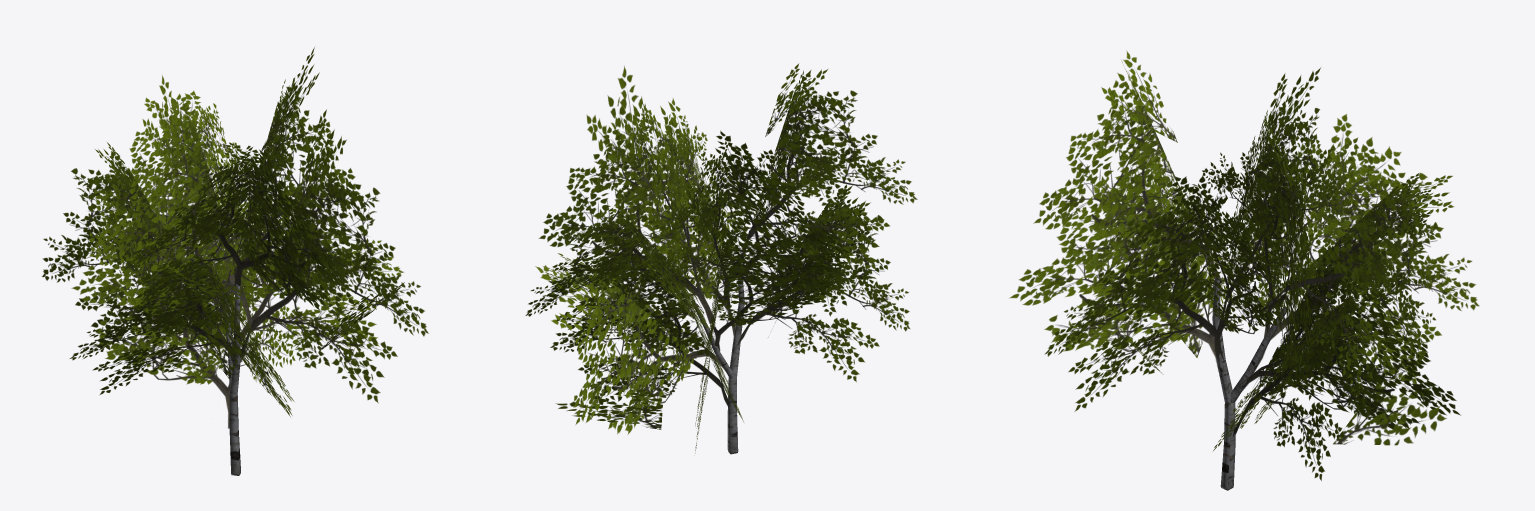
The model's file is leafy_sapling.glb.
The picture shows the model from 3 angles, left to right: view 1: azimuth 30°, elevation 25°; view 2: azimuth 150°, elevation 25°; view 3: azimuth 270°, elevation 25°; orthographic projection. The views are drawn at different scales.
Visible parts, largest first — view 1: Object_89; view 2: Object_89; view 3: Object_89.
Part boxes in pixels (x1,y1,x2,y2): Object_89: (42,47,428,475); Object_89: (525,63,917,454); Object_89: (1009,50,1479,490).
Bounding box in the file's own units: 3.52 × 3.4 × 3.5.
2 materials, 2 textured.
